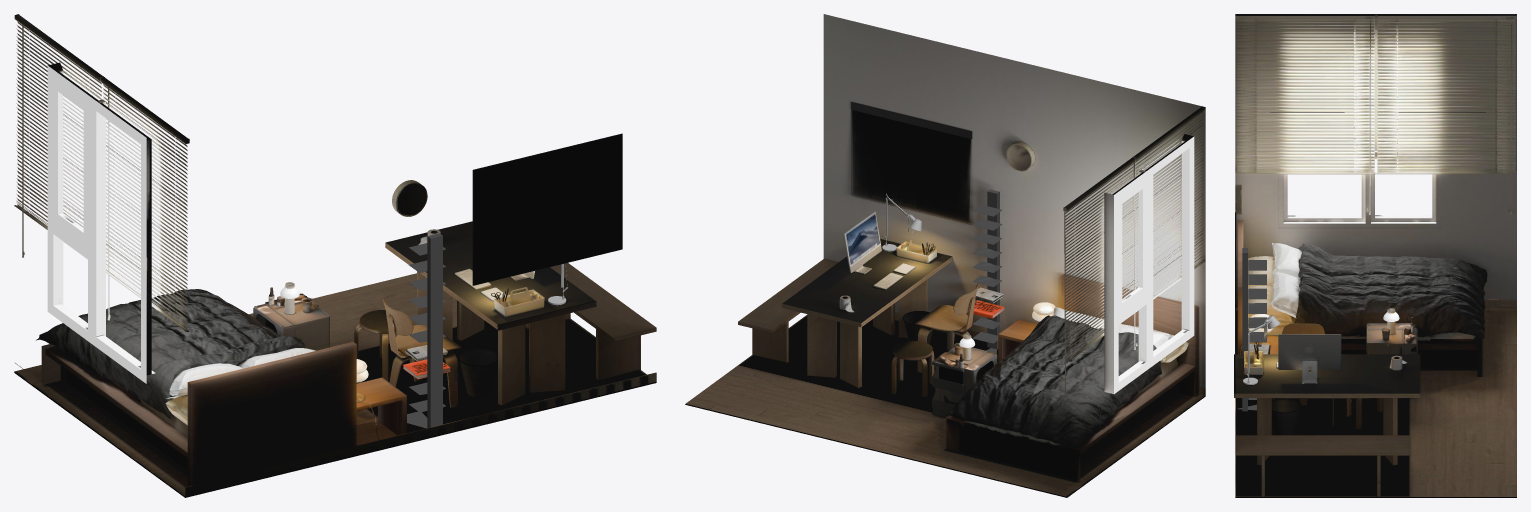
Rendered from compressed_alt2.glb.
3 views of the same model, side by side, from view 1: azimuth 30°, elevation 25°; view 2: azimuth 150°, elevation 25°; view 3: azimuth 270°, elevation 25° (orthographic). The views are drawn at different scales.
Visible parts, largest first — view 1: origin; view 2: origin; view 3: origin.
Boxes of the visible parts, x1,y1,x2,y2 form: origin: (14,14,656,497); origin: (685,14,1205,497); origin: (1234,14,1516,497).
Size of the model in its own units: 3.95 by 2.79 by 2.43.
5 materials, 2 textured.
